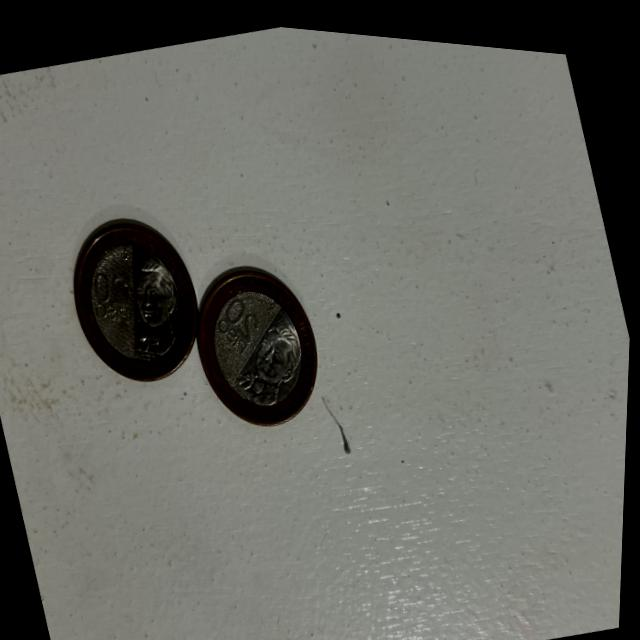20_New_Front: (82, 256, 142, 333), (211, 286, 272, 353)
